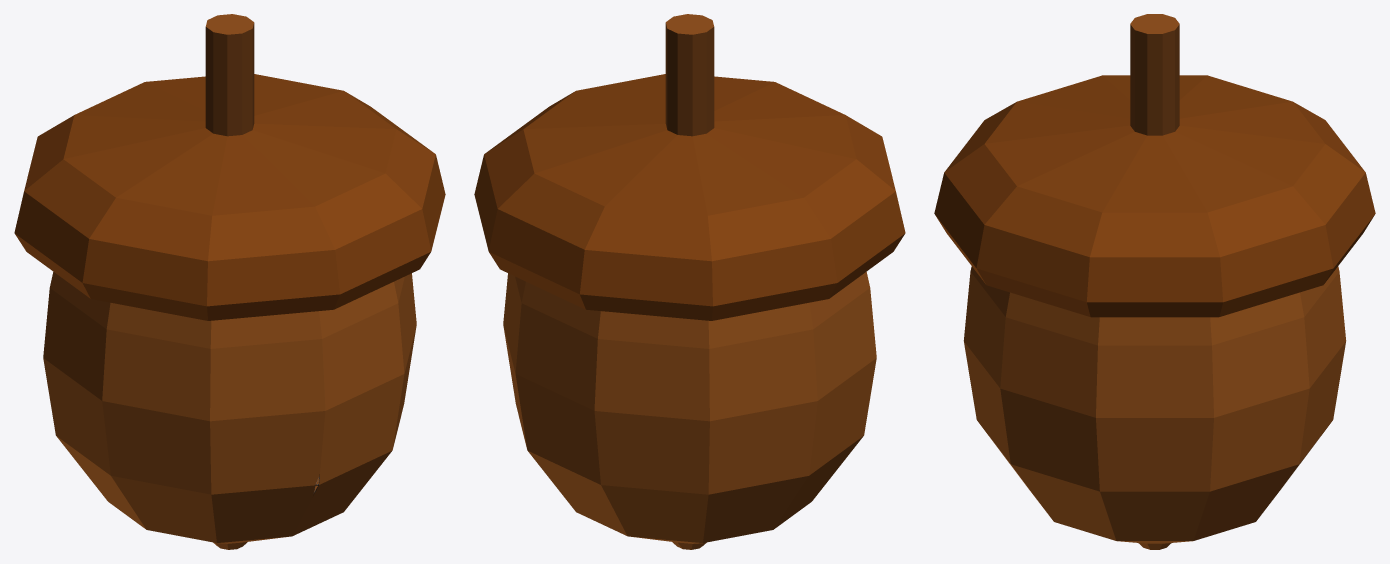
The model's file is acorn.fbx.
The picture shows the model from 3 angles, left to right: view 1: azimuth 30°, elevation 25°; view 2: azimuth 150°, elevation 25°; view 3: azimuth 270°, elevation 25°; orthographic projection.
Visible parts, largest first — view 1: Acorn; view 2: Acorn; view 3: Acorn.
Boxes of the visible parts, <box> form: Acorn: <box>14,14,445,549</box>; Acorn: <box>474,14,905,549</box>; Acorn: <box>934,14,1375,549</box>.
Bounding box in the file's own units: 195 × 266 × 205.
